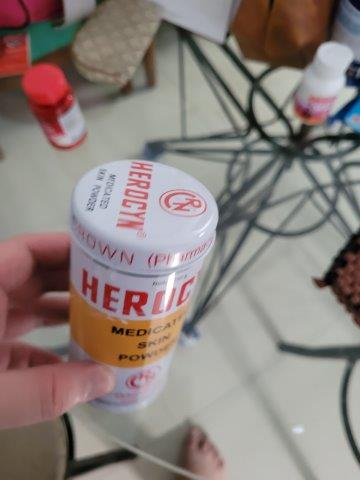kaleng: (71, 161, 213, 414)
